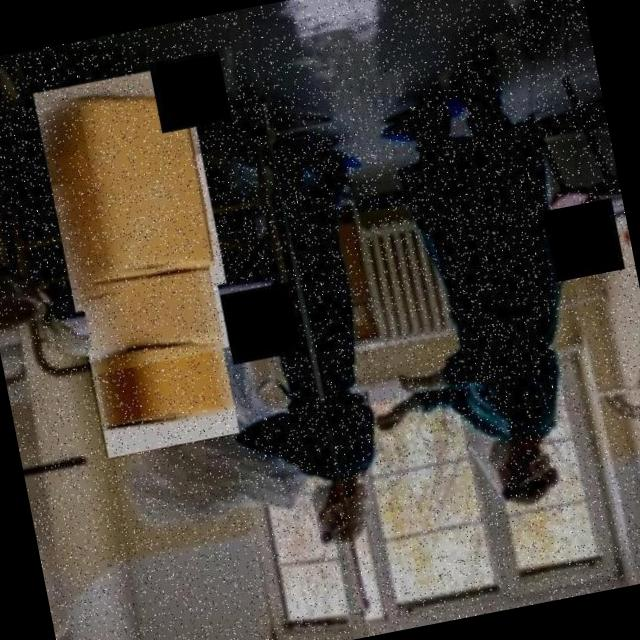box: (29, 61, 230, 315), (83, 322, 239, 460), (75, 250, 232, 375)
